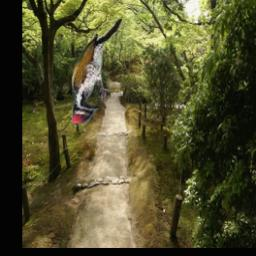Woodpecker: (72, 19, 122, 124)
